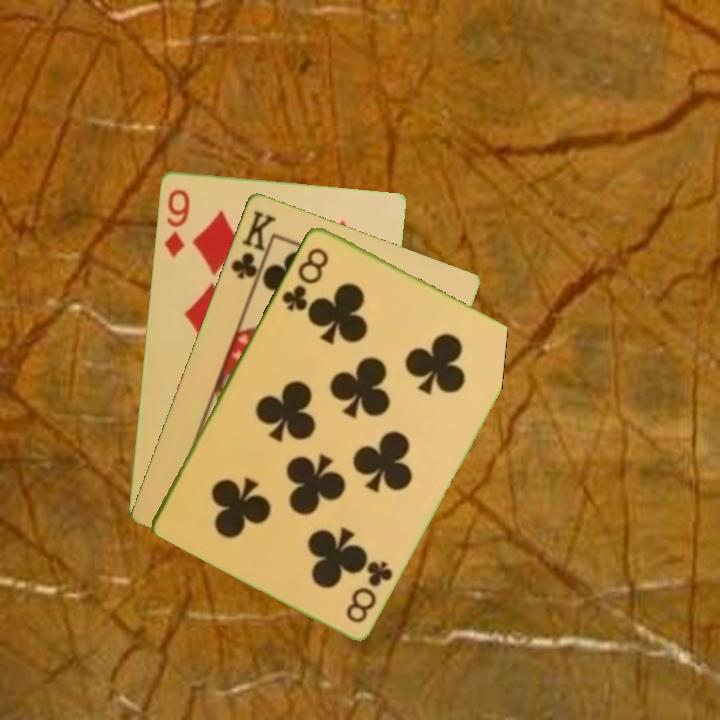8c: (278, 243, 332, 314), (342, 556, 396, 626)
9d: (160, 185, 192, 261)
Kc: (227, 206, 279, 290)
